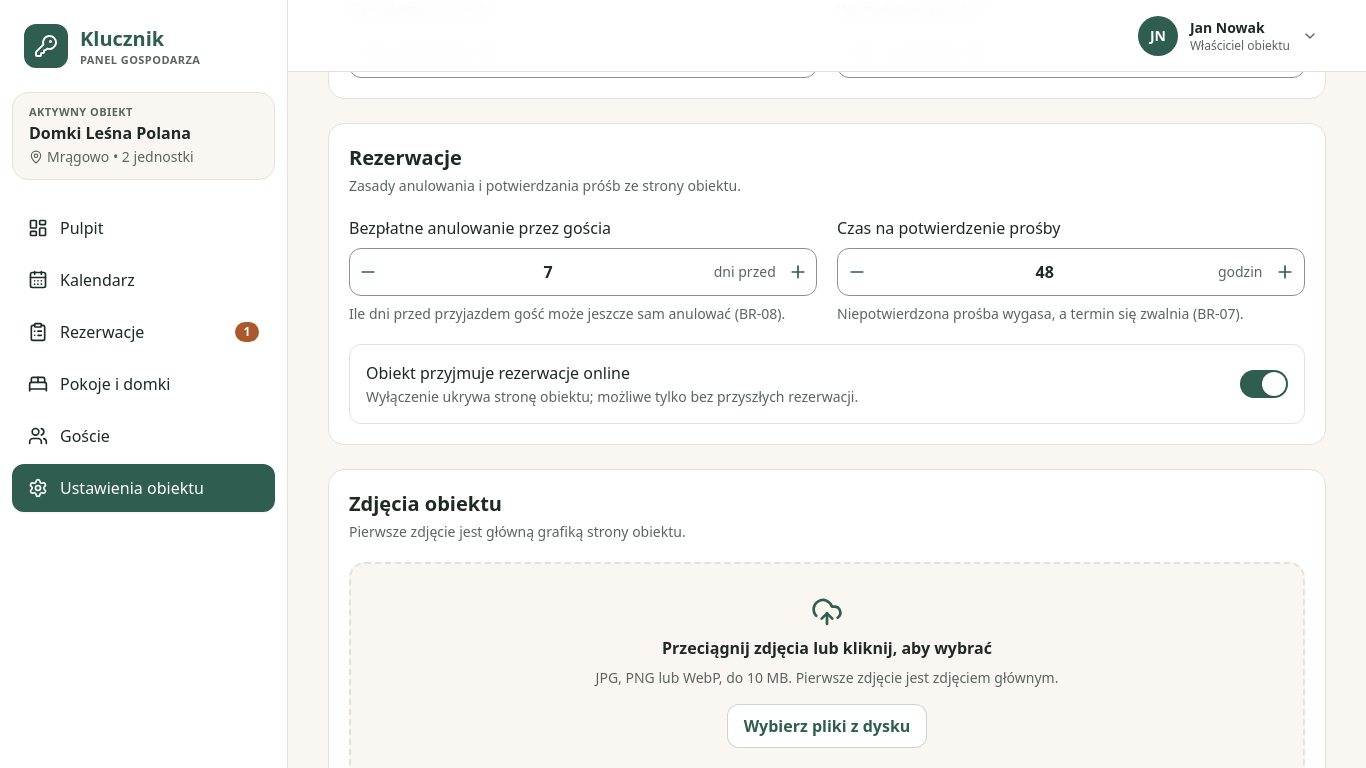
PropertySettingsPage (O8) › BR-10: turning the property off with future reservations → alert with the count
(page scrolled)
Click the switch named "Obiekt przyjmuje rezerwacje online" at x=1264, y=384, box [1240,370,1288,398]
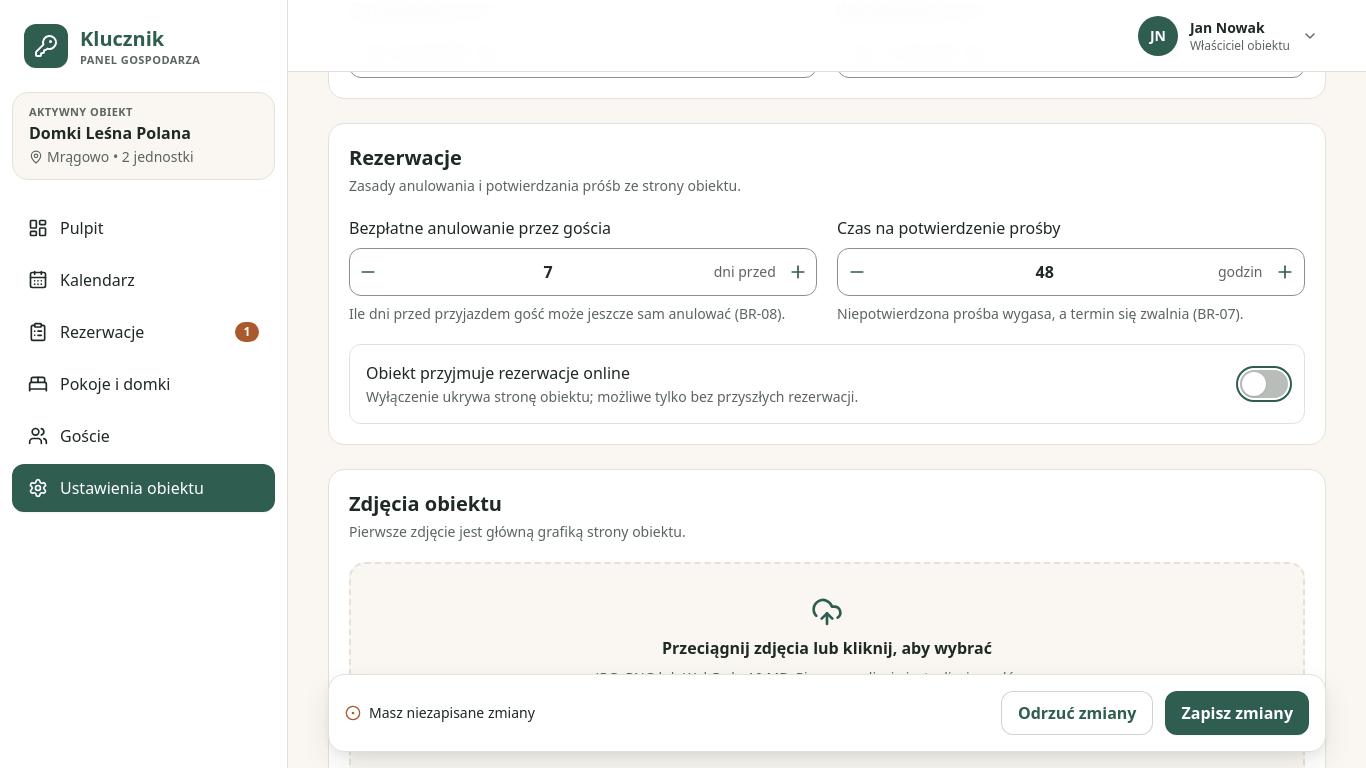
Click the button "Zapisz zmiany" at x=1237, y=713, box [1166,691,1309,735]
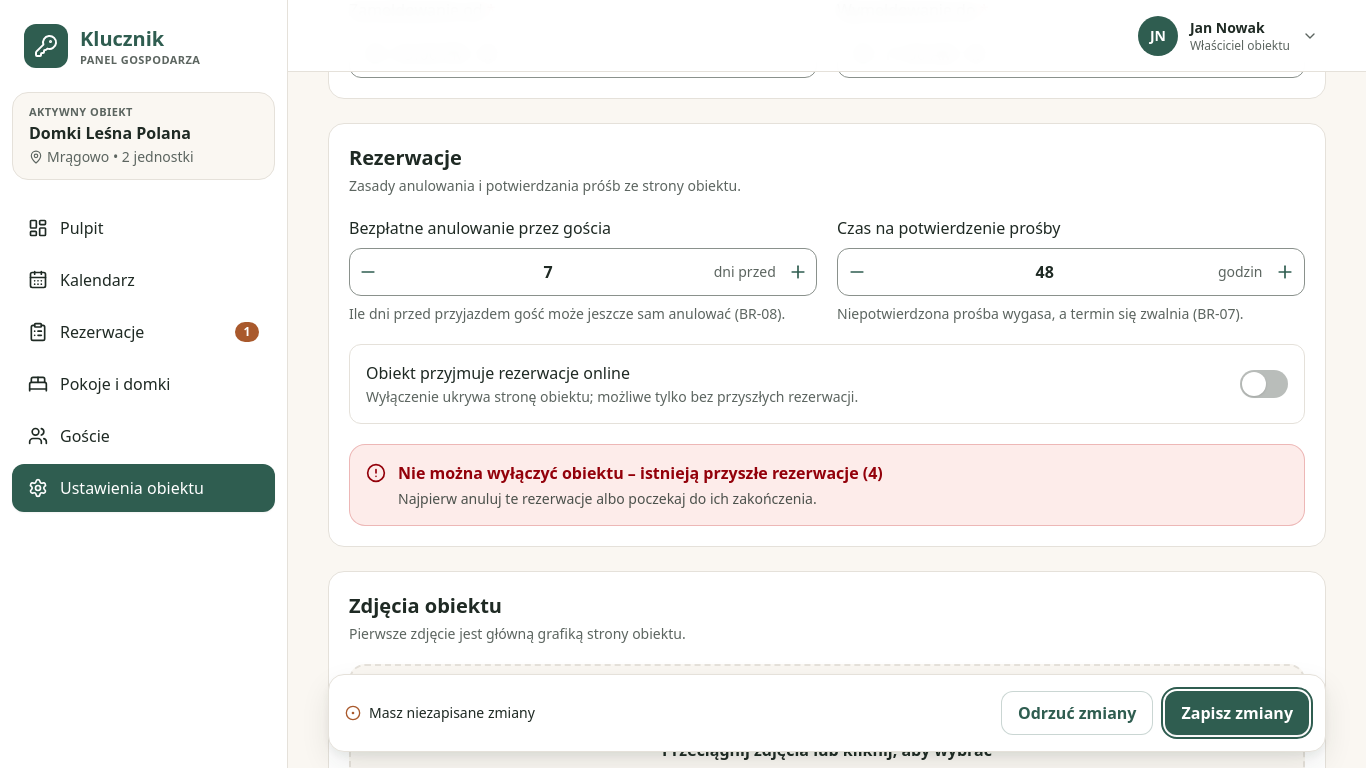
Check: the text "Nie można wyłączyć obiektu – istnieją przyszłe rezerwacje (4)" is shown, box [398,462,883,484]
